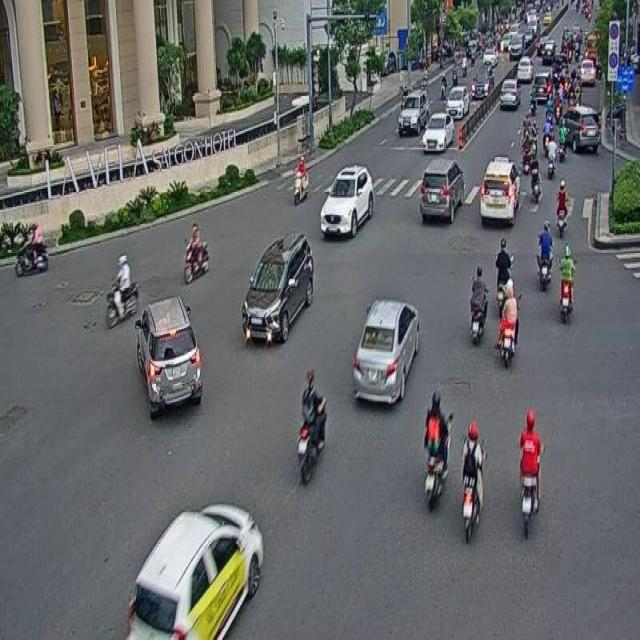car: (126, 506, 262, 640), (134, 294, 202, 418), (240, 233, 314, 344), (353, 297, 419, 405), (320, 165, 373, 236), (419, 157, 463, 221), (480, 157, 521, 224)
motorcycle: (423, 388, 454, 511), (297, 367, 326, 485), (460, 421, 486, 544), (518, 408, 542, 540), (182, 219, 210, 285), (556, 242, 578, 322), (470, 265, 490, 346), (535, 220, 554, 290)
